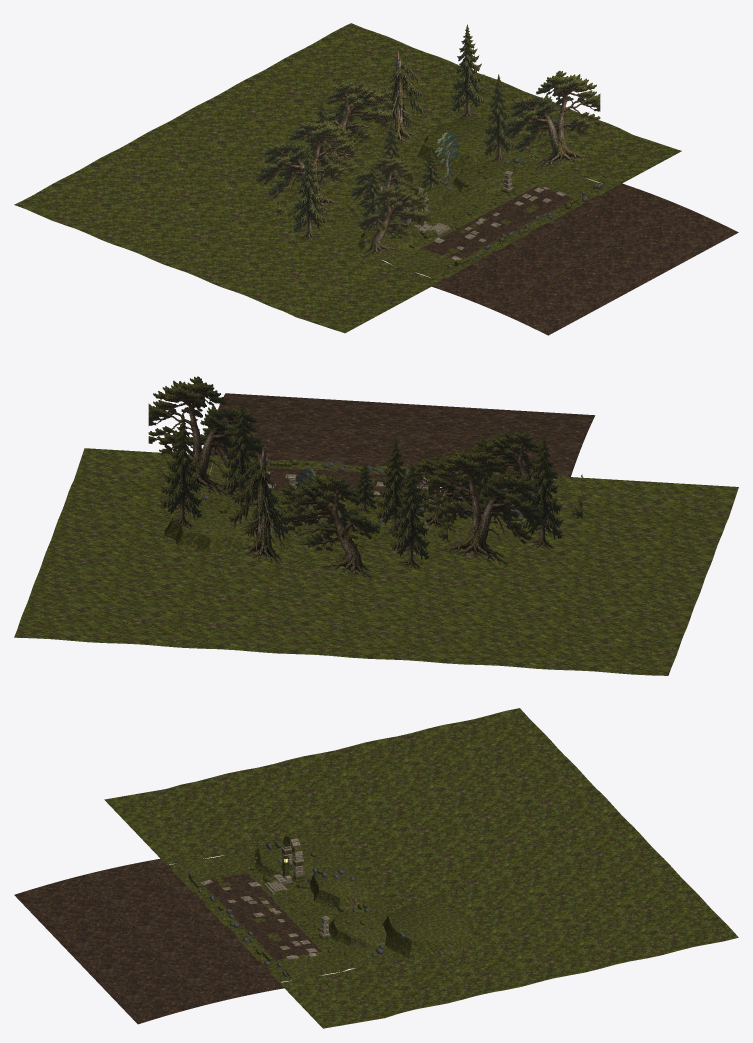
Rendered from mossbound_full_stage.fbx.
3 renders of one model, top to bottom at view 1: azimuth 30°, elevation 25°; view 2: azimuth 150°, elevation 25°; view 3: azimuth 270°, elevation 25°, orthographic. The views are drawn at different scales.
Visible parts, largest first — view 1: StageBatch_13, StageBatch_15, StageBatch_02, StageBatch_09, StageBatch_08, StageBatch_12, StageBatch_07, StageBatch_11, StageBatch_00, StageBatch_01, StageBatch_10; view 2: StageBatch_13, StageBatch_15, StageBatch_09, StageBatch_08, StageBatch_07, StageBatch_12, StageBatch_02, StageBatch_11, StageBatch_00; view 3: StageBatch_13, StageBatch_15, StageBatch_02, StageBatch_12, StageBatch_00, StageBatch_01, StageBatch_04.
Part boxes in pixels (x1,y1,x2,y2): StageBatch_13: [14, 23, 681, 333]; StageBatch_15: [432, 183, 738, 335]; StageBatch_02: [319, 149, 613, 280]; StageBatch_09: [256, 70, 600, 216]; StageBatch_08: [276, 24, 516, 240]; StageBatch_12: [358, 119, 518, 253]; StageBatch_07: [317, 79, 426, 259]; StageBatch_11: [367, 50, 426, 145]; StageBatch_00: [360, 165, 598, 266]; StageBatch_01: [401, 170, 566, 260]; StageBatch_10: [434, 132, 459, 179]; StageBatch_13: [14, 448, 738, 675]; StageBatch_15: [210, 393, 595, 476]; StageBatch_09: [148, 376, 546, 565]; StageBatch_08: [160, 402, 582, 569]; StageBatch_07: [281, 429, 558, 580]; StageBatch_12: [164, 493, 526, 552]; StageBatch_02: [200, 455, 550, 547]; StageBatch_11: [228, 446, 300, 563]; StageBatch_00: [225, 458, 517, 526]; StageBatch_13: [104, 708, 738, 1028]; StageBatch_15: [14, 858, 283, 1024]; StageBatch_02: [169, 833, 403, 982]; StageBatch_12: [254, 842, 476, 958]; StageBatch_00: [189, 835, 373, 975]; StageBatch_01: [200, 838, 330, 959]; StageBatch_04: [188, 840, 405, 976].
Size of the model in its own units: 8502 by 1795 by 8679.
14 materials, 12 textured.
